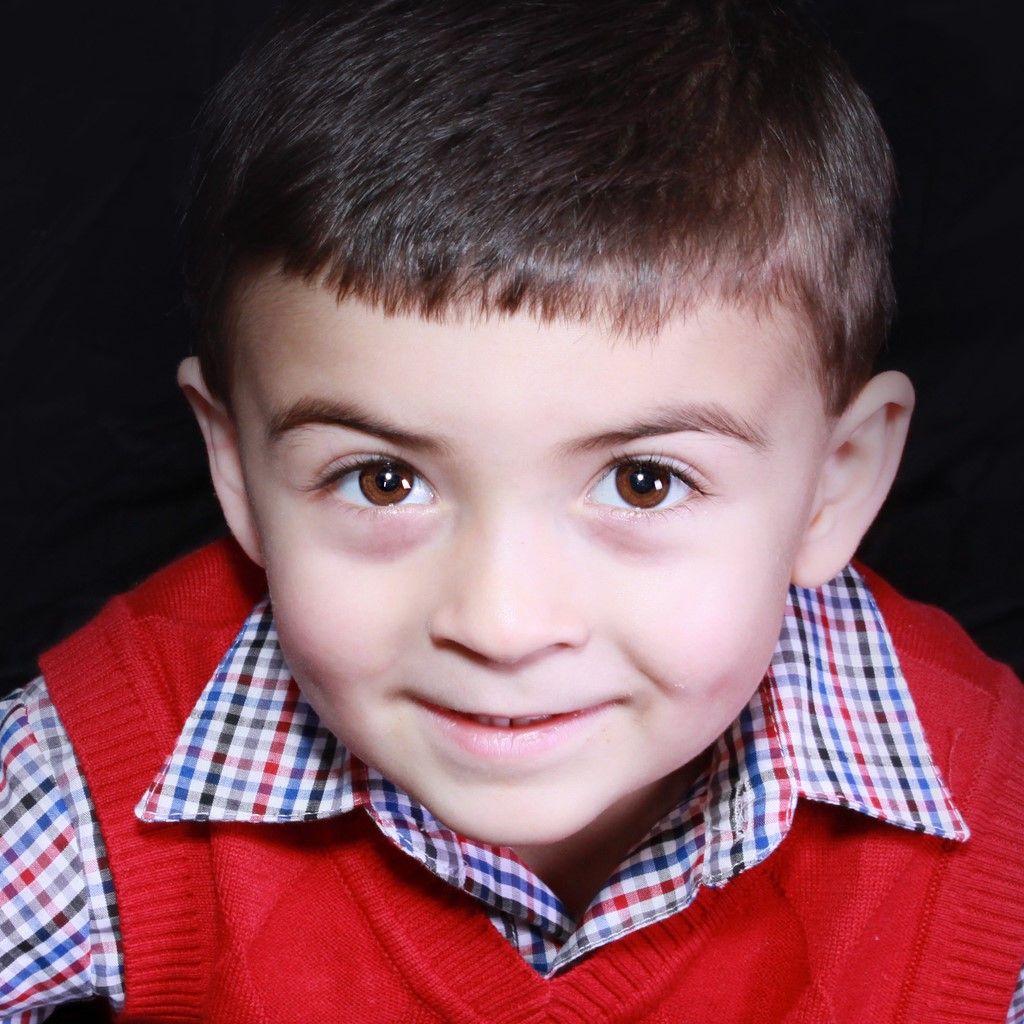sin_mascara: (249, 105, 813, 835)
